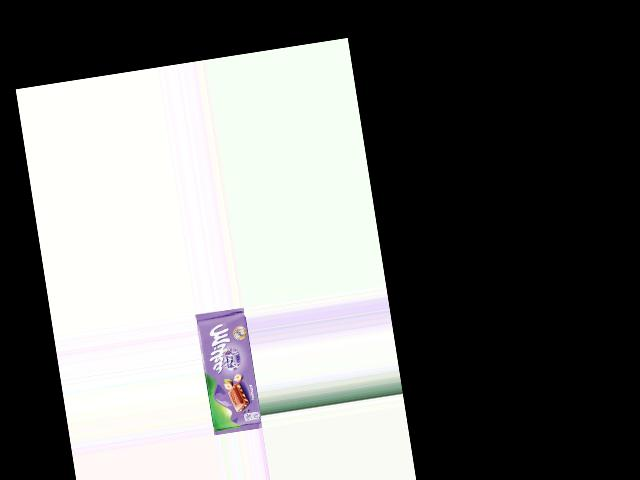chocolate: (195, 307, 263, 435)
